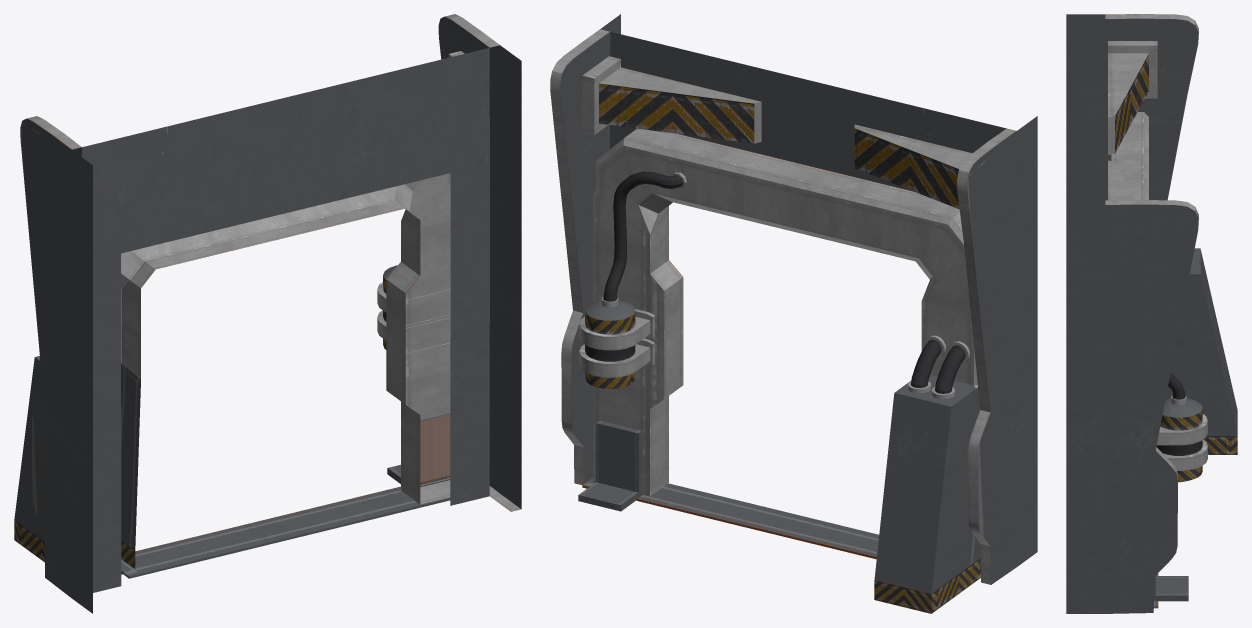
File: door.FBX
The picture shows the model from 3 angles, left to right: view 1: azimuth 30°, elevation 25°; view 2: azimuth 150°, elevation 25°; view 3: azimuth 270°, elevation 25°; orthographic projection. The views are drawn at different scales.
Visible parts, largest first — view 1: Lab_Door_Cube_003; view 2: Lab_Door_Cube_003; view 3: Lab_Door_Cube_003.
Boxes of the visible parts, bbox=[...] form: Lab_Door_Cube_003: bbox=[14, 14, 521, 613]; Lab_Door_Cube_003: bbox=[550, 14, 1037, 613]; Lab_Door_Cube_003: bbox=[1066, 14, 1237, 613].
Bounding box in the file's own units: 300 × 300 × 114.
